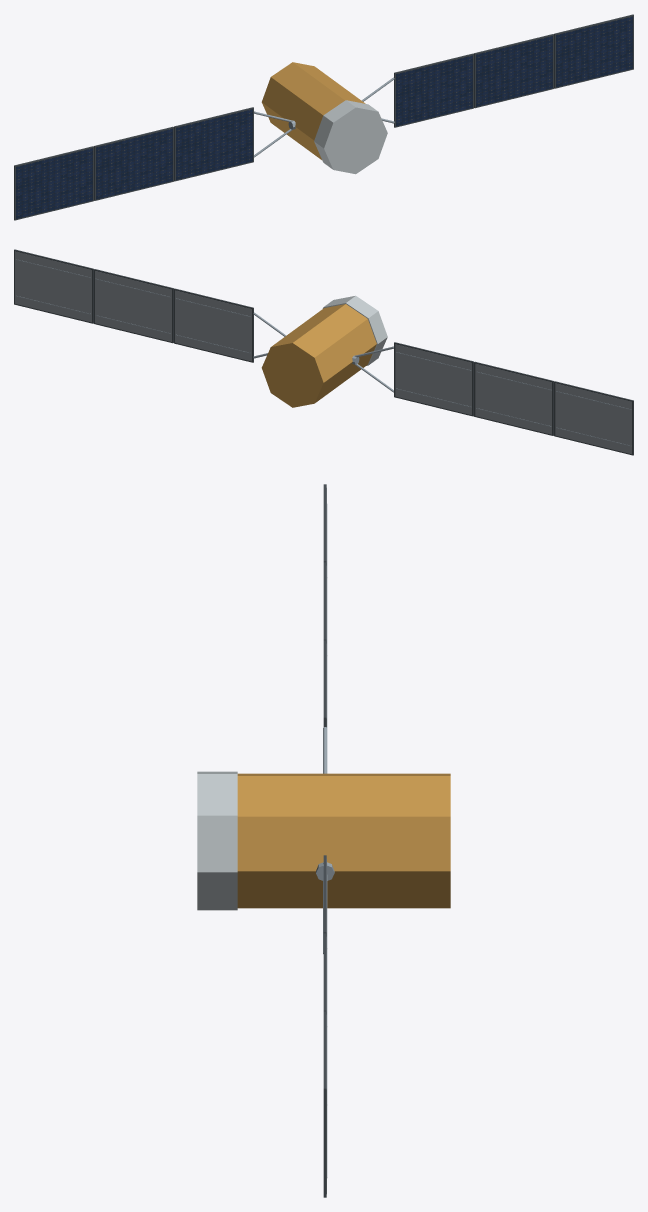
The model's file is ref-yg41-58582.glb.
The picture shows the model from 3 angles, top to bottom: view 1: azimuth 30°, elevation 25°; view 2: azimuth 150°, elevation 25°; view 3: azimuth 270°, elevation 25°; orthographic projection. The views are drawn at different scales.
Parts seen in each view (by area): view 1: Solar cell panel (×6), Service barrel, Equipment flange, Solar panel frame (×6); view 2: Rear array substrate (×6), Service barrel, Solar panel frame (×6), Equipment flange; view 3: Service barrel, Equipment flange.
Part boxes in pixels (left/top/right/bottom): Solar cell panel (×6): left=16, top=16, right=632, bottom=219; Service barrel: left=261, top=62, right=365, bottom=159; Equipment flange: left=314, top=100, right=387, bottom=174; Solar panel frame (×6): left=14, top=14, right=633, bottom=220; Rear array substrate (×6): left=15, top=251, right=631, bottom=453; Service barrel: left=261, top=304, right=376, bottom=407; Solar panel frame (×6): left=14, top=249, right=633, bottom=455; Equipment flange: left=322, top=295, right=387, bottom=365; Service barrel: left=237, top=773, right=450, bottom=908; Equipment flange: left=197, top=771, right=237, bottom=910.
Size of the model in its own units: 39.95 by 4.12 by 7.07.
6 materials, 1 textured.
